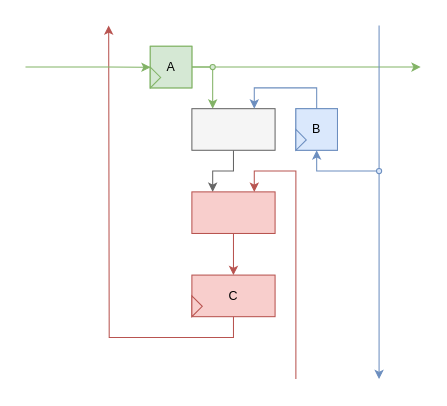
This 447x406 diagram has some shape labels left out. The centre of each missing label's shape, as x and y in pixels:
add: the point at 233,212
multiply: the point at 233,129
